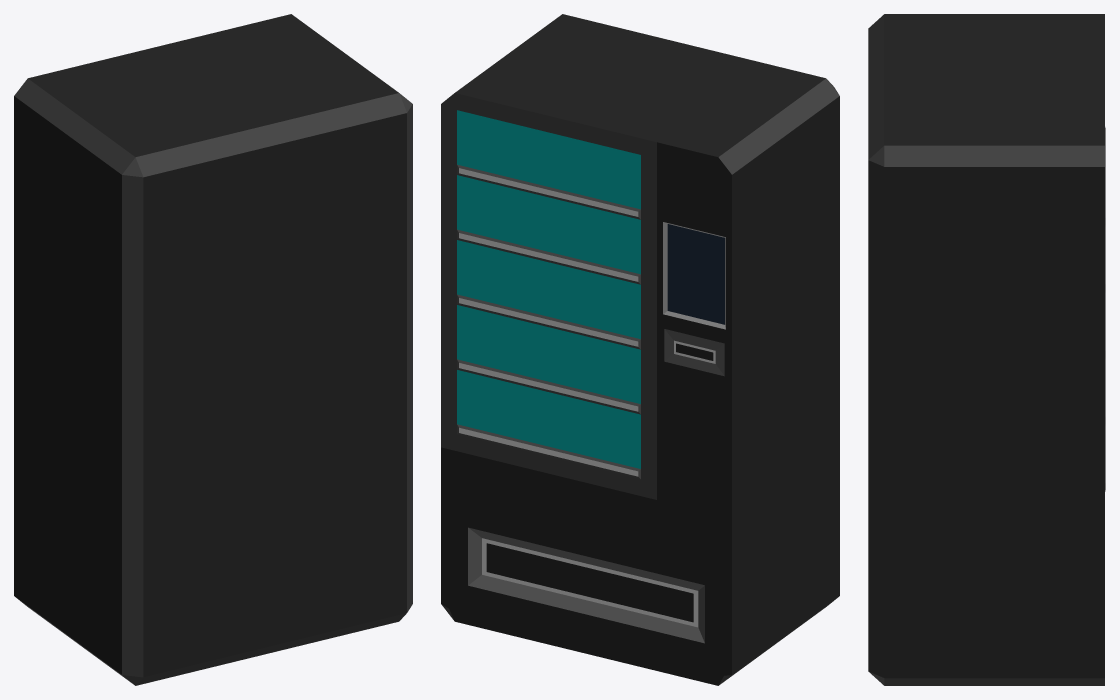
The model's file is VendingMachine.fbx.
3 views of the same model, side by side, from view 1: azimuth 30°, elevation 25°; view 2: azimuth 150°, elevation 25°; view 3: azimuth 270°, elevation 25° (orthographic). The views are drawn at different scales.
Parts seen in each view (by area): view 1: VendingMachine; view 2: VendingMachine; view 3: VendingMachine.
Boxes of the visible parts, x1,y1,x2,y2 form: VendingMachine: (14,14,412,685); VendingMachine: (441,14,839,685); VendingMachine: (868,14,1105,685).
Size of the model in its own units: 20.6 by 35.78 by 14.24.
